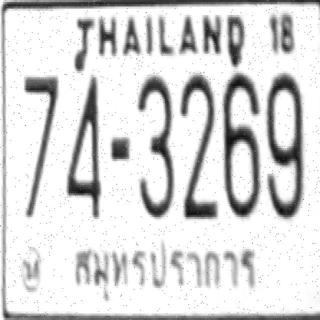N02: (180, 72, 216, 220), (179, 73, 215, 208)
N03: (136, 73, 173, 217)
N04: (64, 73, 100, 217)
N06: (222, 71, 260, 217)
N07: (22, 73, 58, 217), (22, 73, 58, 182)
N09: (265, 71, 304, 219)
P57: (72, 234, 259, 307)
